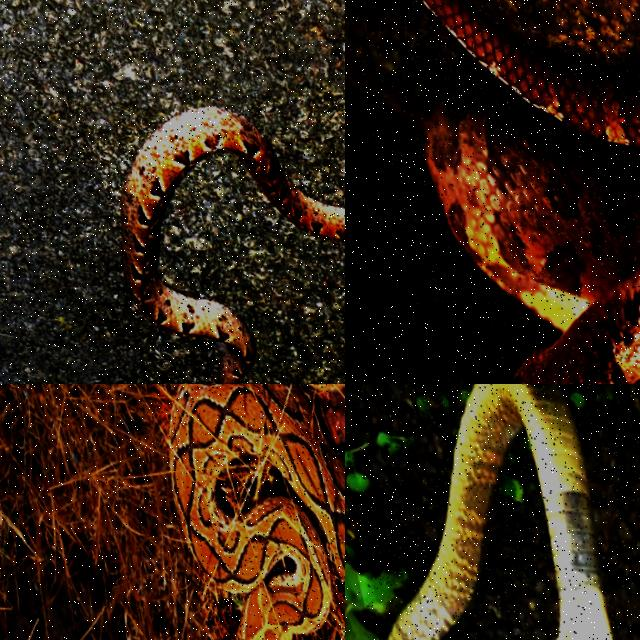Calloselasma rhodostoma: (120, 106, 344, 383)
Daboia siamensis: (168, 384, 344, 639)
Naja kaouthia: (387, 384, 613, 639)
Ovophis monticola: (424, 106, 639, 383)
snake: (120, 106, 344, 383), (424, 106, 639, 383), (387, 384, 613, 639), (168, 384, 344, 639)
